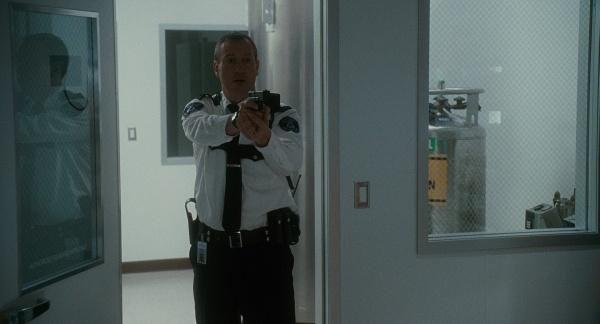Gun: (249, 89, 270, 108)
